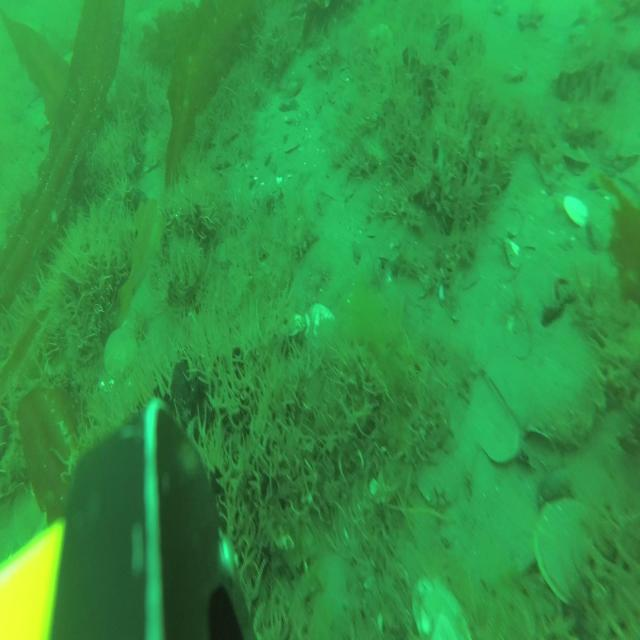scallop: (532, 494, 594, 602), (408, 572, 471, 640), (102, 314, 140, 379), (303, 302, 335, 338), (562, 190, 587, 221)
